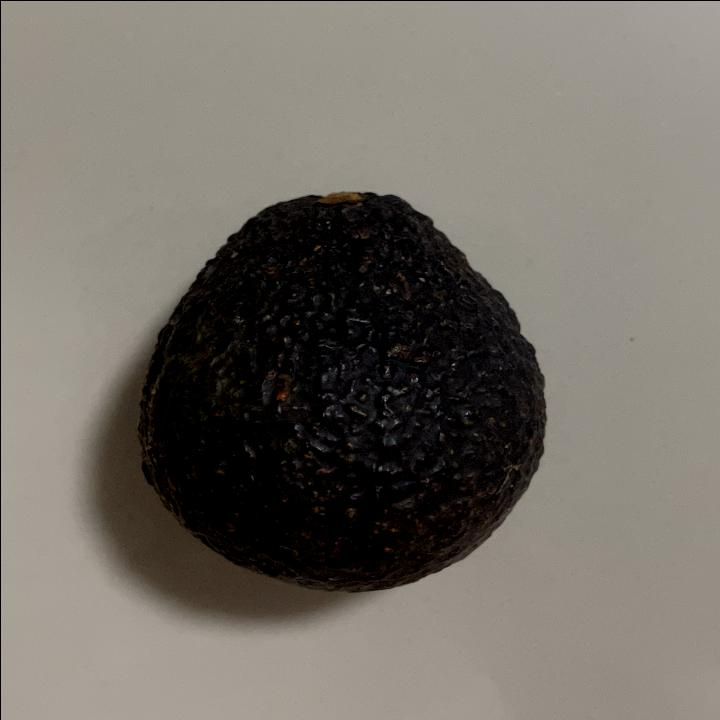Level2: (129, 184, 553, 598)
